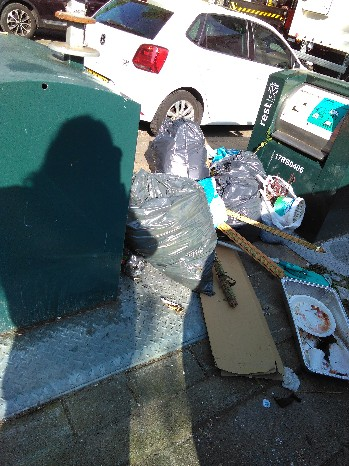Container: (1, 42, 117, 341), (269, 79, 349, 207)
Papier: (190, 249, 283, 387)
Rest: (135, 170, 200, 287), (227, 150, 295, 240), (300, 271, 349, 377), (154, 135, 210, 196)
Voertuig: (93, 0, 270, 121)
